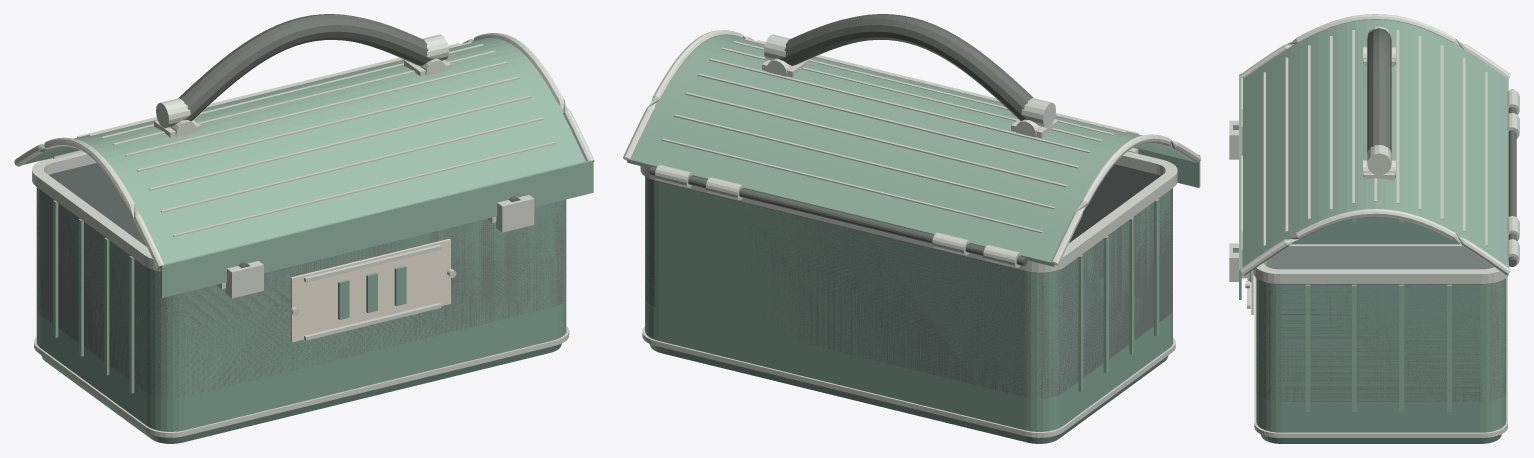
File: lunchbox_sage.glb
The picture shows the model from 3 angles, left to right: view 1: azimuth 30°, elevation 25°; view 2: azimuth 150°, elevation 25°; view 3: azimuth 270°, elevation 25°; orthographic projection. The views are drawn at different scales.
Parts seen in each view (by area): view 1: pressed_lower_basin, curved_domical_lid, hollow_interior_walls, front_lid_apron, front_label_backplate, arched_bakelite_handle, lower_edge_bead, rolled_top_lip, lid_edge_welt_-0.189, lid_edge_welt_0.189, pressed_roof_rib_08, pressed_roof_rib_09 (+16 smaller); view 2: pressed_lower_basin, curved_domical_lid, hollow_interior_walls, arched_bakelite_handle, rolled_top_lip, lower_edge_bead, hinge_steel_pin, lid_edge_welt_-0.189, lid_edge_welt_0.189, pressed_roof_rib_03, pressed_roof_rib_04, pressed_roof_rib_02 (+16 smaller); view 3: curved_domical_lid, pressed_lower_basin, hollow_interior_walls, bottom_floor, rolled_top_lip, arched_bakelite_handle, lower_edge_bead, lid_edge_welt_0.189, lid_edge_welt_-0.189, hinge_steel_pin, wall_rib_1_-0.017, wall_rib_1_0.060 (+16 smaller).
Boxes of the visible parts, x1,y1,x2,y2 form: pressed_lower_basin: (36, 187, 566, 443); curved_domical_lid: (23, 38, 585, 263); hollow_interior_walls: (36, 163, 566, 398); front_lid_apron: (160, 160, 593, 297); front_label_backplate: (290, 238, 450, 342); arched_bakelite_handle: (178, 14, 434, 121); lower_edge_bead: (34, 326, 569, 437); rolled_top_lip: (32, 152, 160, 271); lid_edge_welt_-0.189: (14, 137, 164, 269); lid_edge_welt_0.189: (462, 33, 594, 161); pressed_roof_rib_08: (137, 76, 519, 171); pressed_roof_rib_09: (149, 95, 531, 190); pressed_lower_basin: (645, 177, 1172, 443); curved_domical_lid: (627, 35, 1192, 266); hollow_interior_walls: (645, 164, 1172, 398); arched_bakelite_handle: (778, 14, 1033, 120); rolled_top_lip: (640, 151, 1177, 272); lower_edge_bead: (642, 326, 1175, 437); hinge_steel_pin: (649, 166, 1027, 266); lid_edge_welt_-0.189: (1051, 134, 1200, 265); lid_edge_welt_0.189: (623, 30, 755, 160); pressed_roof_rib_03: (685, 92, 1066, 187); pressed_roof_rib_04: (697, 73, 1078, 168); pressed_roof_rib_02: (673, 114, 1054, 209); curved_domical_lid: (1242, 19, 1508, 274); pressed_lower_basin: (1256, 216, 1506, 443); hollow_interior_walls: (1256, 278, 1506, 401); bottom_floor: (1266, 246, 1493, 269); rolled_top_lip: (1253, 263, 1509, 283); arched_bakelite_handle: (1367, 28, 1391, 153); lower_edge_bead: (1254, 244, 1507, 437); lid_edge_welt_0.189: (1240, 208, 1510, 275); lid_edge_welt_-0.189: (1240, 14, 1510, 78); hinge_steel_pin: (1508, 89, 1516, 266); wall_rib_1_-0.017: (1399, 284, 1404, 411); wall_rib_1_0.060: (1305, 284, 1310, 411).
Bounding box in the file's own units: 0.3846 × 0.2835 × 0.238.
